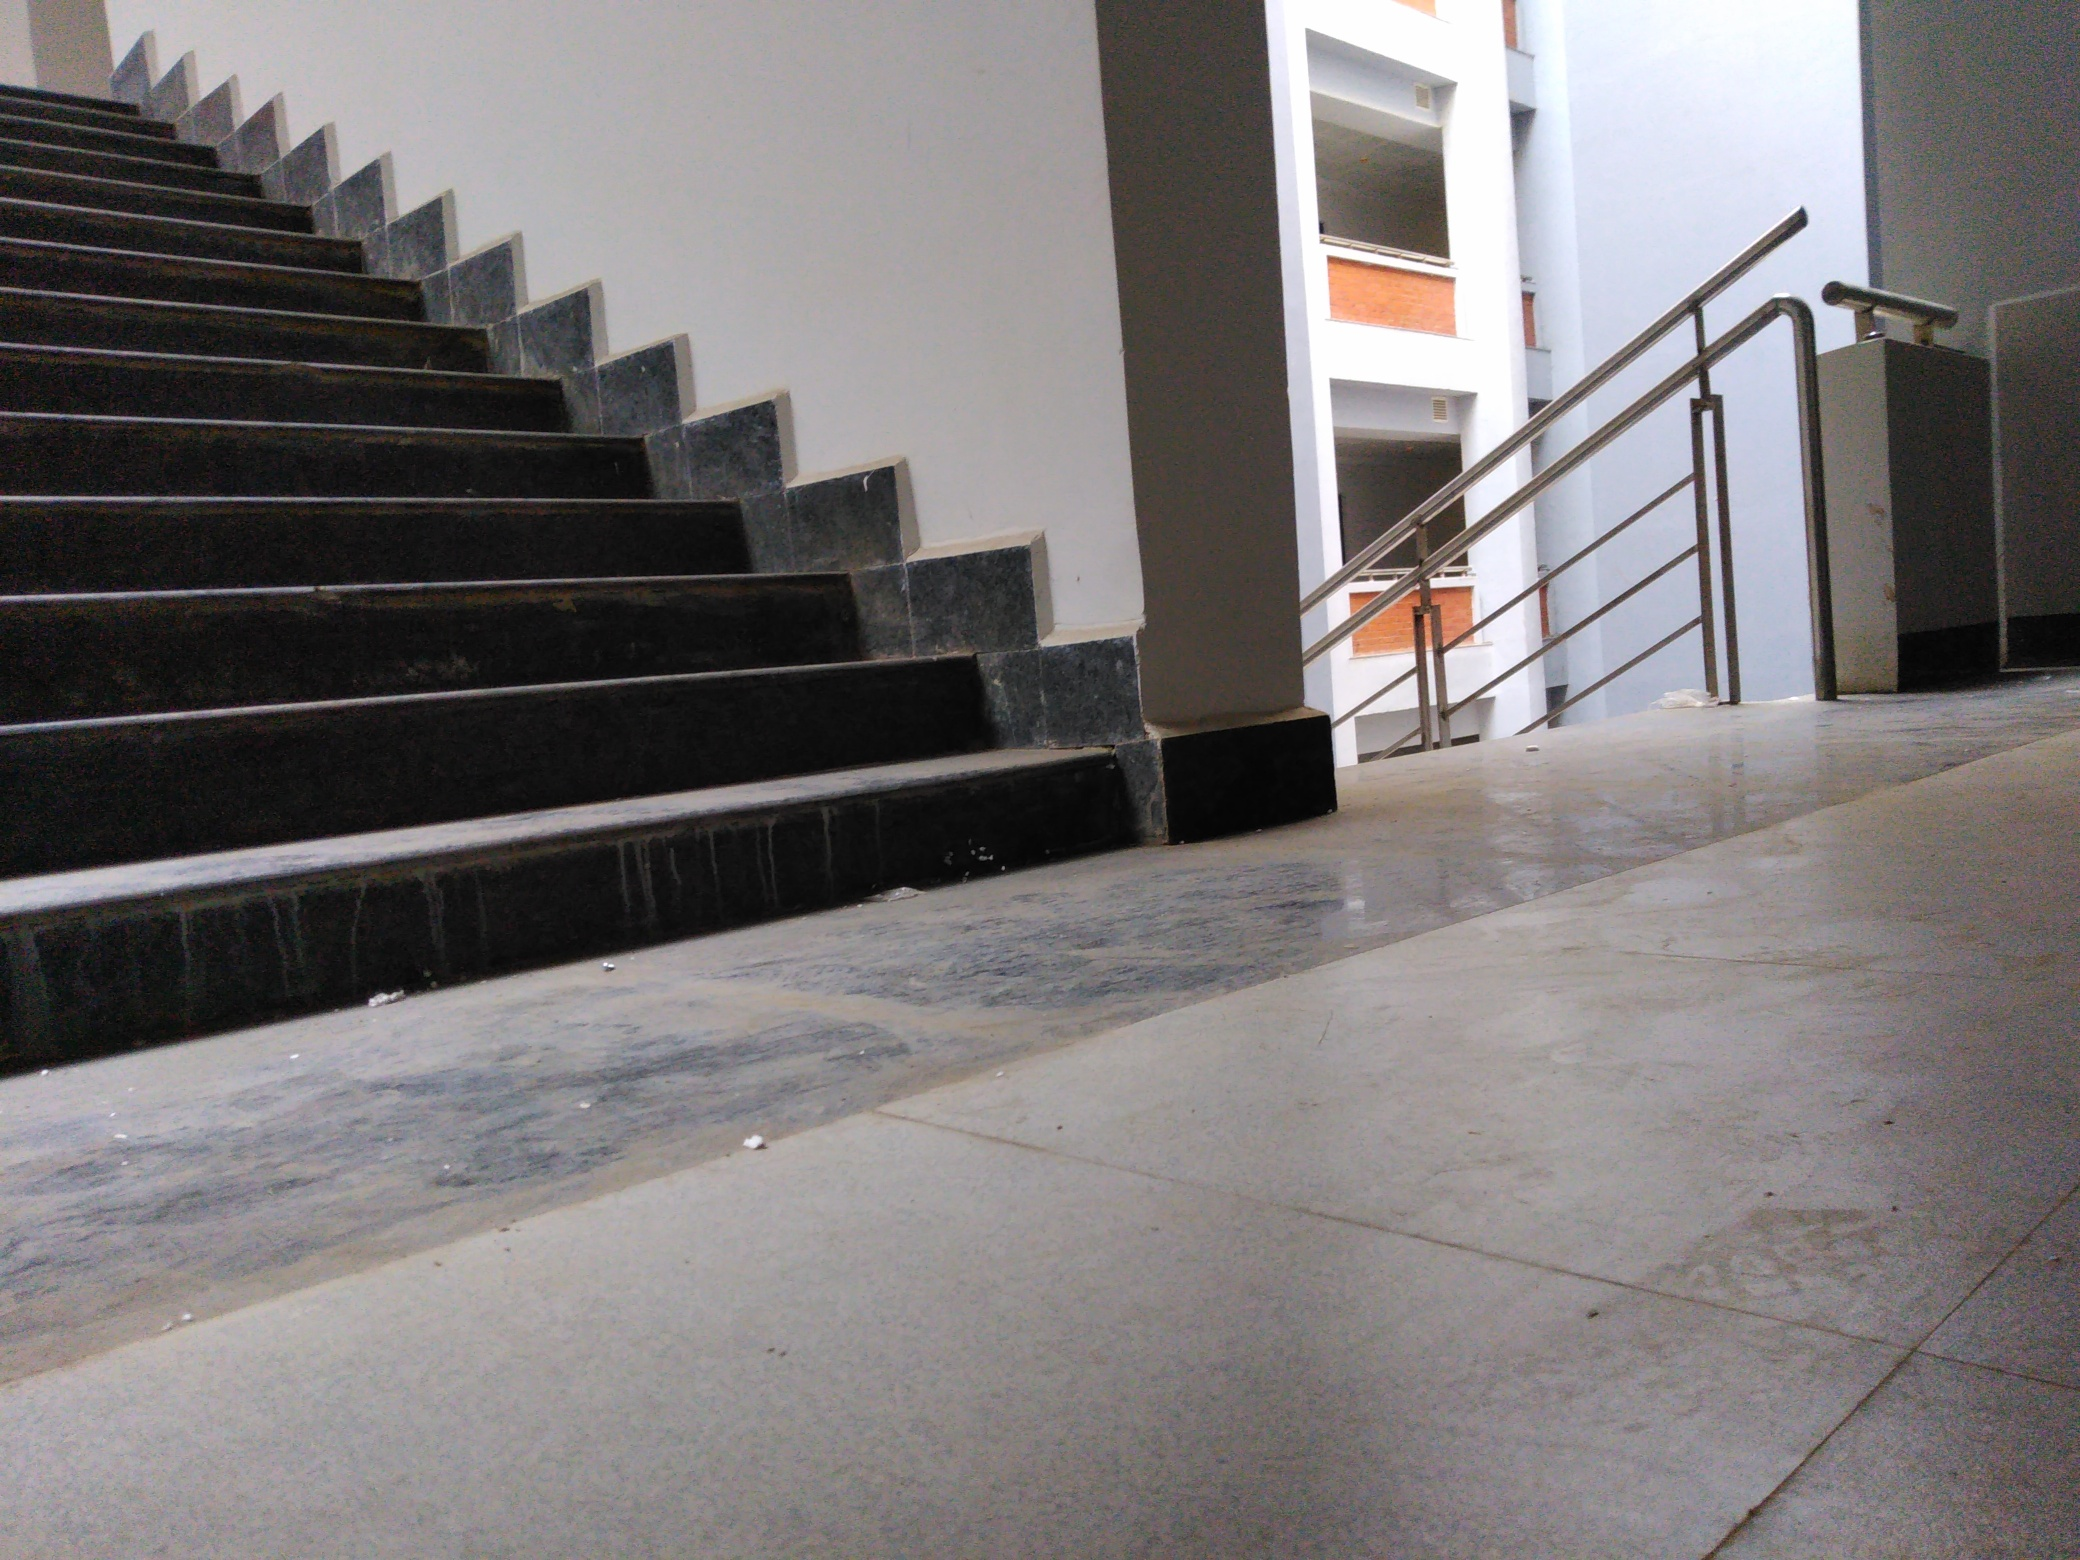stairs_up: (8, 131, 1038, 905)
